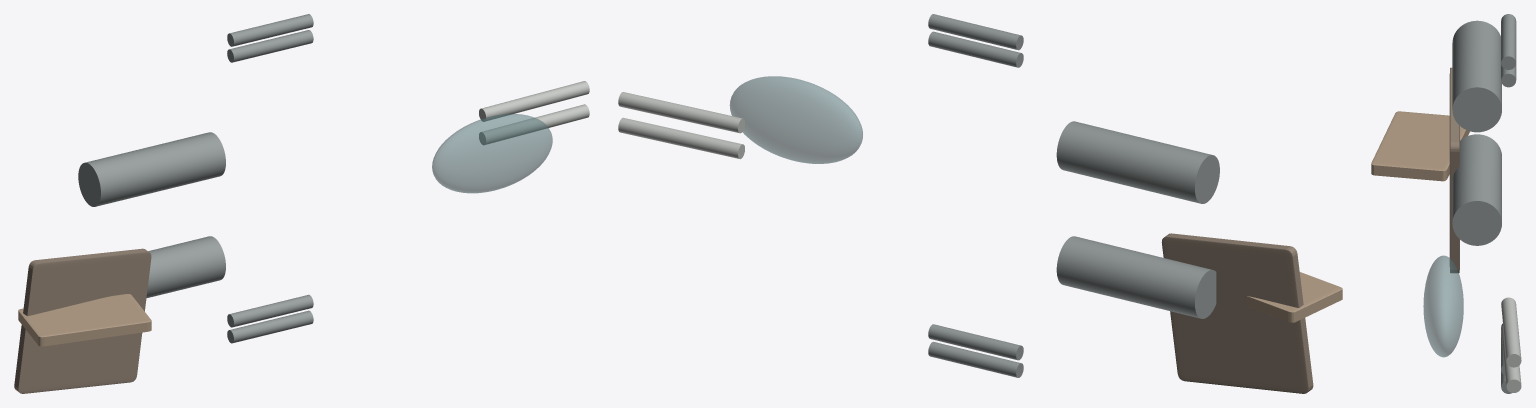
File: d-u23-dominion-interceptor-lod2.glb
3 renders of one model, left to right at view 1: azimuth 30°, elevation 25°; view 2: azimuth 150°, elevation 25°; view 3: azimuth 270°, elevation 25°, orthographic. The views are drawn at different scales.
Visible parts, largest first — view 1: combat_tailplane_-1, combat_canopy, combat_engine_1, combat_fin_-1, combat_engine_0, combat_gun_barrel_1, combat_gun_barrel_0, combat_1_tube_1, combat_-1_tube_2, combat_-1_tube_1, combat_1_tube_2; view 2: combat_tailplane_-1, combat_canopy, combat_engine_1, combat_engine_0, combat_fin_-1, combat_gun_barrel_0, combat_gun_barrel_1, combat_-1_tube_2, combat_-1_tube_1, combat_1_tube_1, combat_1_tube_2; view 3: combat_engine_1, combat_engine_0, combat_fin_-1, combat_canopy, combat_tailplane_-1, combat_gun_barrel_1, combat_1_tube_2, combat_gun_barrel_0, combat_1_tube_1.
Boxes of the visible parts, x1,y1,x2,y2 form: combat_tailplane_-1: (14,248,151,393); combat_canopy: (432,114,552,193); combat_engine_1: (78,132,225,206); combat_fin_-1: (18,294,151,346); combat_engine_0: (146,236,225,298); combat_gun_barrel_1: (479,81,589,121); combat_gun_barrel_0: (479,104,589,144); combat_1_tube_1: (227,30,313,62); combat_-1_tube_2: (227,294,313,327); combat_-1_tube_1: (227,310,313,343); combat_1_tube_2: (227,14,313,46); combat_tailplane_-1: (1161,233,1313,393); combat_canopy: (729,76,862,163); combat_engine_1: (1056,121,1219,203); combat_engine_0: (1056,236,1216,318); combat_fin_-1: (1246,272,1342,322); combat_gun_barrel_0: (618,117,744,159); combat_gun_barrel_1: (618,92,744,133); combat_-1_tube_2: (928,324,1023,360); combat_-1_tube_1: (928,341,1023,377); combat_1_tube_1: (928,31,1023,67); combat_1_tube_2: (928,14,1023,50); combat_engine_1: (1452,20,1501,132); combat_engine_0: (1452,134,1501,245); combat_fin_-1: (1371,111,1469,181); combat_canopy: (1423,255,1463,357); combat_tailplane_-1: (1449,67,1459,272); combat_gun_barrel_1: (1501,297,1521,367); combat_1_tube_2: (1501,14,1516,69); combat_gun_barrel_0: (1501,326,1521,392); combat_1_tube_1: (1501,63,1516,87).
Size of what is drawn, in the model's own units: 13.3 by 6.55 by 2.64.
